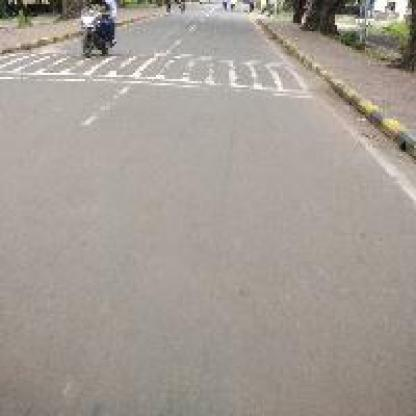Speed Bump: (106, 52, 312, 89), (2, 46, 60, 77)
